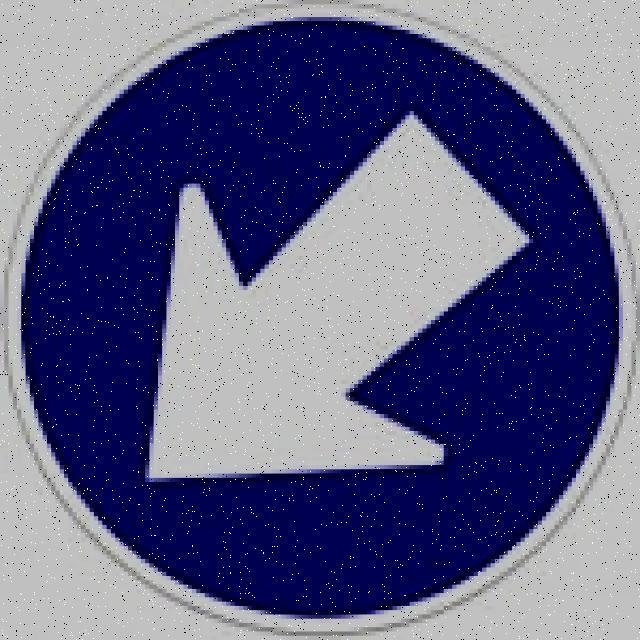Lajur Kiri: (2, 2, 638, 636)
